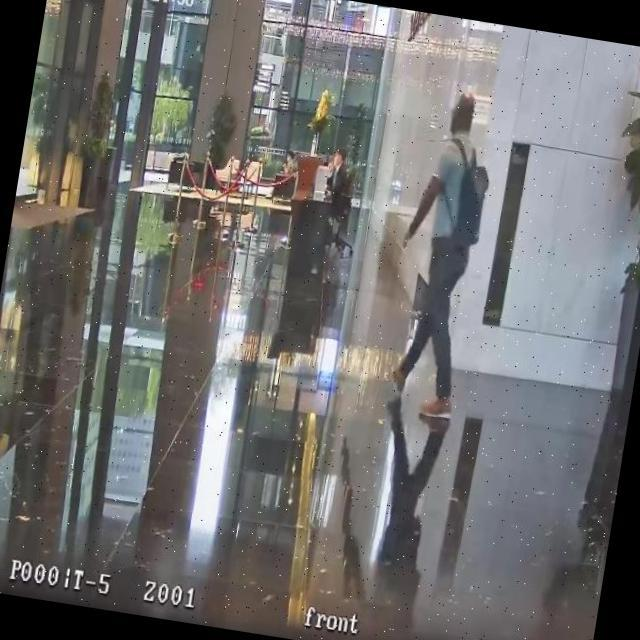person: (378, 84, 504, 422), (322, 144, 353, 198), (282, 149, 298, 176)
